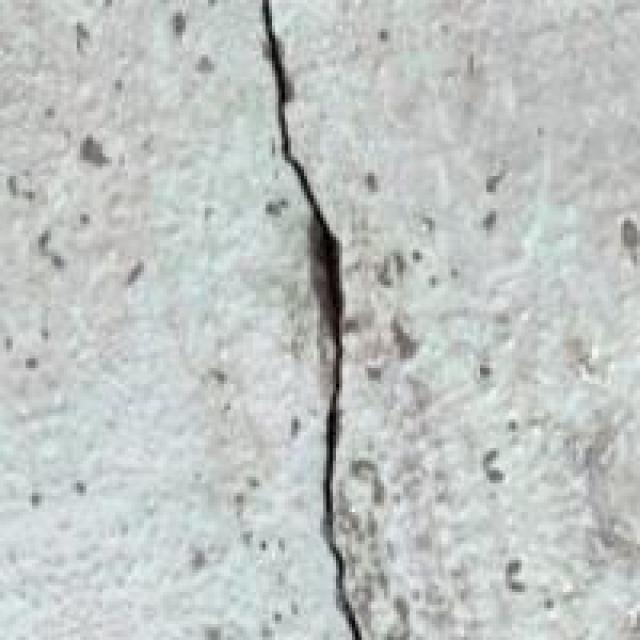Crack: (227, 0, 413, 637)
